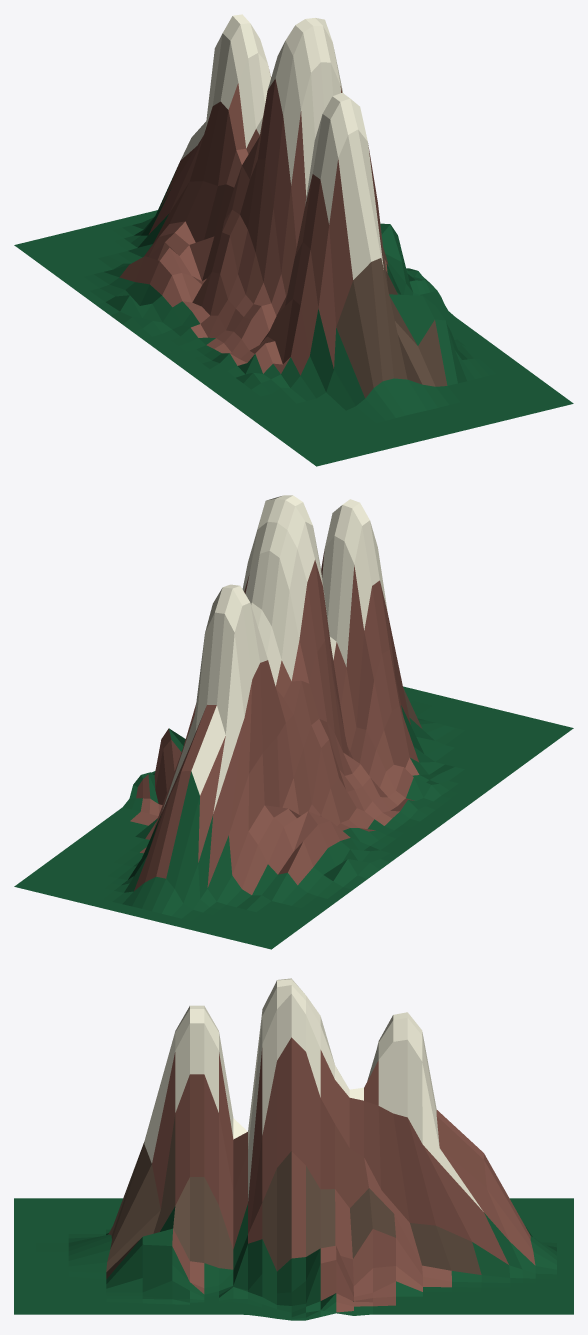
File: Mountain_03.fbx
3 views of the same model, one above another, from view 1: azimuth 30°, elevation 25°; view 2: azimuth 150°, elevation 25°; view 3: azimuth 270°, elevation 25° (orthographic). The views are drawn at different scales.
Parts seen in each view (by area): view 1: Mountain_03; view 2: Mountain_03; view 3: Mountain_03.
Boxes of the visible parts, left/top/right/bottom form: Mountain_03: left=14, top=14, right=573, bottom=466; Mountain_03: left=14, top=495, right=573, bottom=949; Mountain_03: left=14, top=978, right=573, bottom=1320.
Bounding box in the file's own units: 10578 × 11284 × 20350.
